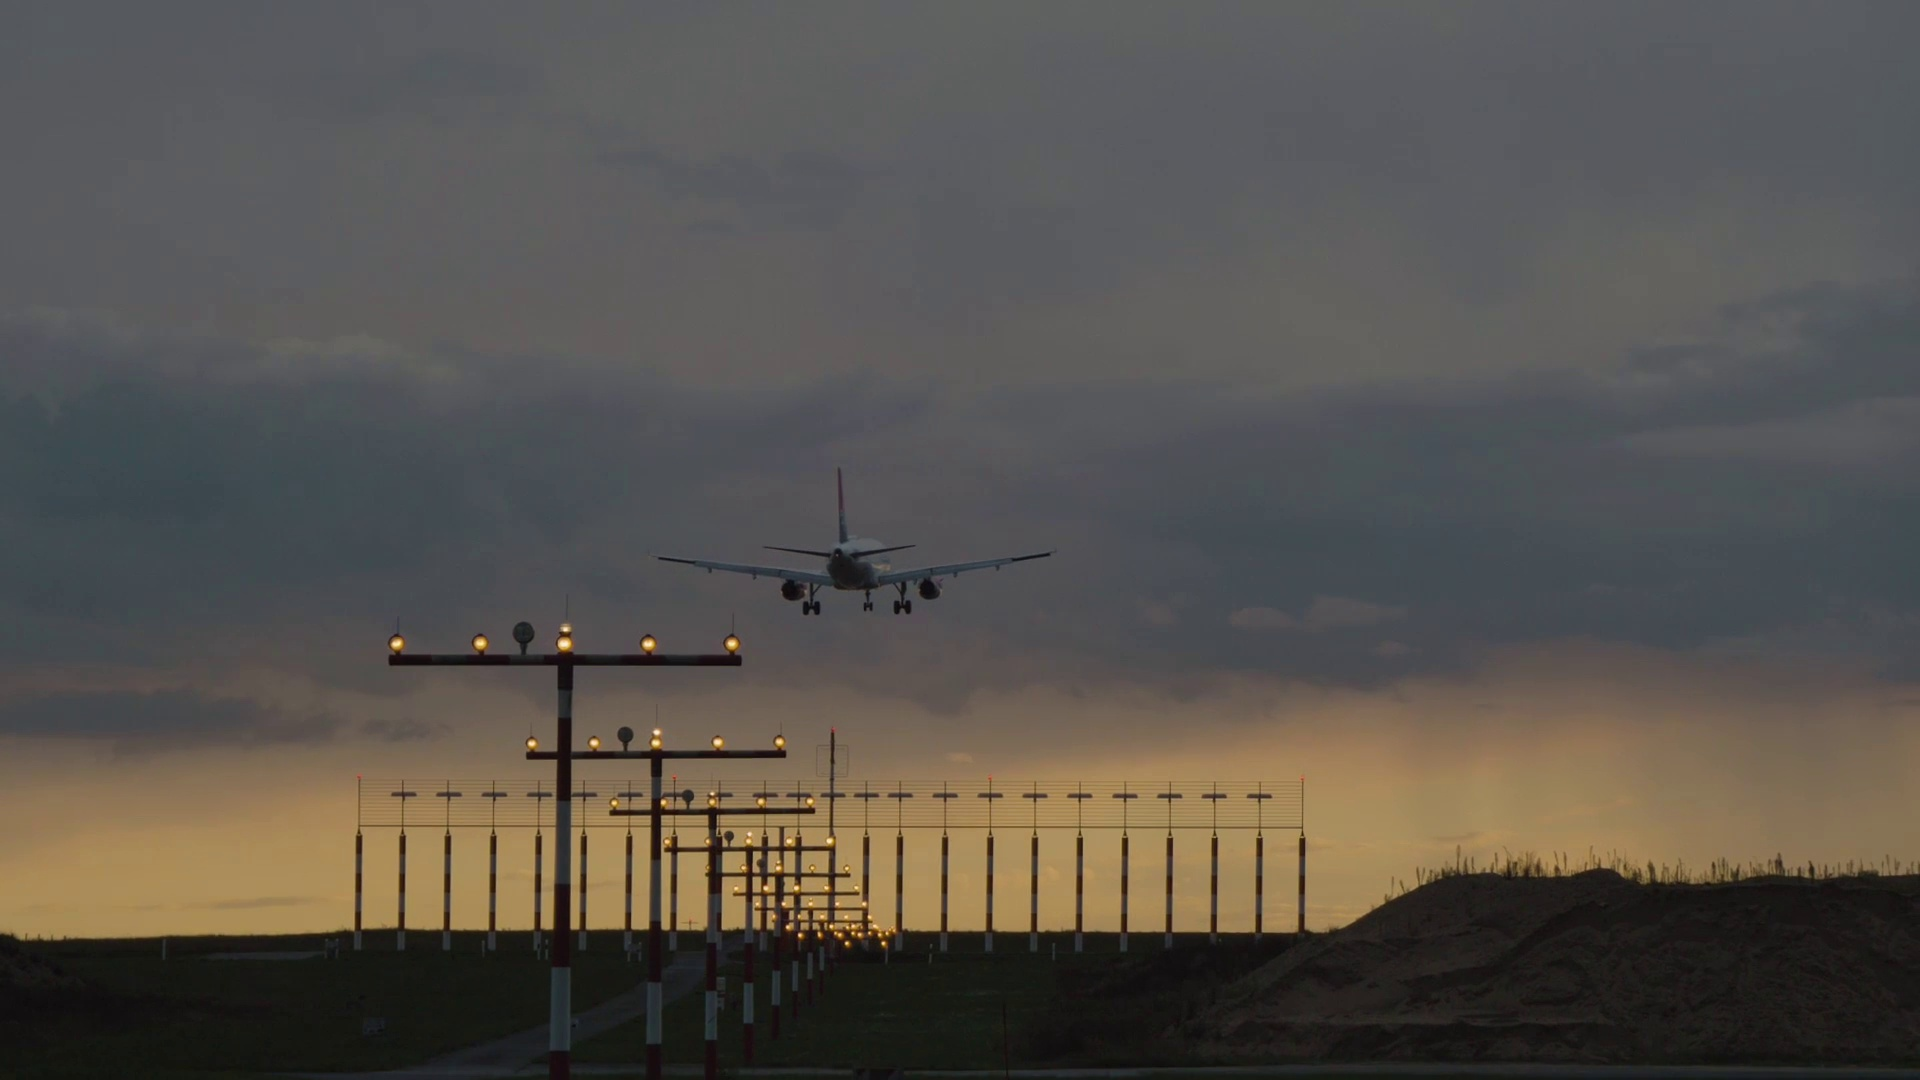plane: (647, 468, 1058, 616)
